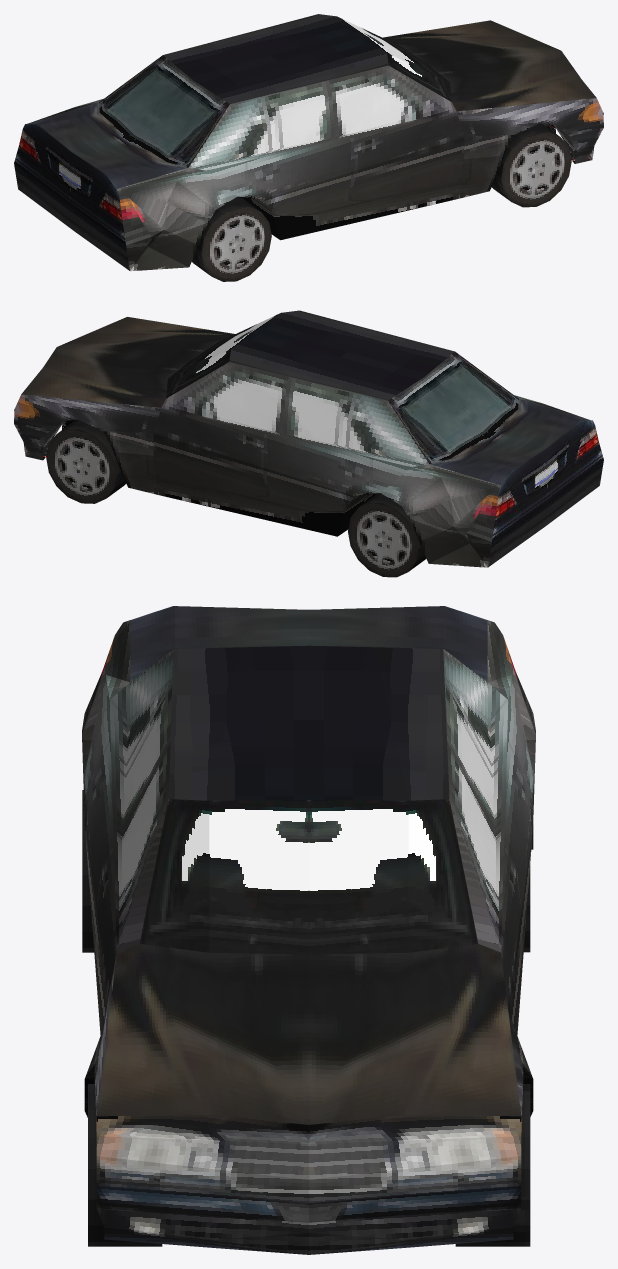
The model's file is benz.glb.
3 views of the same model, one above another, from view 1: azimuth 30°, elevation 25°; view 2: azimuth 150°, elevation 25°; view 3: azimuth 270°, elevation 25° (orthographic). The views are drawn at different scales.
Parts seen in each view (by area): view 1: car body, wheel front right.001, wheel back right; view 2: car body, wheel front left.001, wheel back left; view 3: car body, wheel front left.001, wheel front right.001, wheel back right.
Boxes of the visible parts, <box> form: car body: <box>14,14,603,271</box>; wheel front right.001: <box>492,123,571,207</box>; wheel back right: <box>192,196,271,281</box>; car body: <box>14,310,603,567</box>; wheel front left.001: <box>46,419,126,503</box>; wheel back left: <box>348,493,426,577</box>; car body: <box>82,606,535,1254</box>; wheel front left.001: <box>455,1084,530,1246</box>; wheel front right.001: <box>88,1084,162,1246</box>; wheel back right: <box>82,790,94,952</box>.
Bounding box in the file's own units: 4.94 × 1.53 × 1.95.
Materials: 2 (2 with a texture image).
